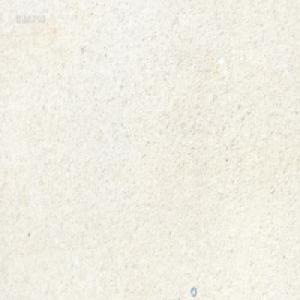Washer: (190, 285, 197, 297)
